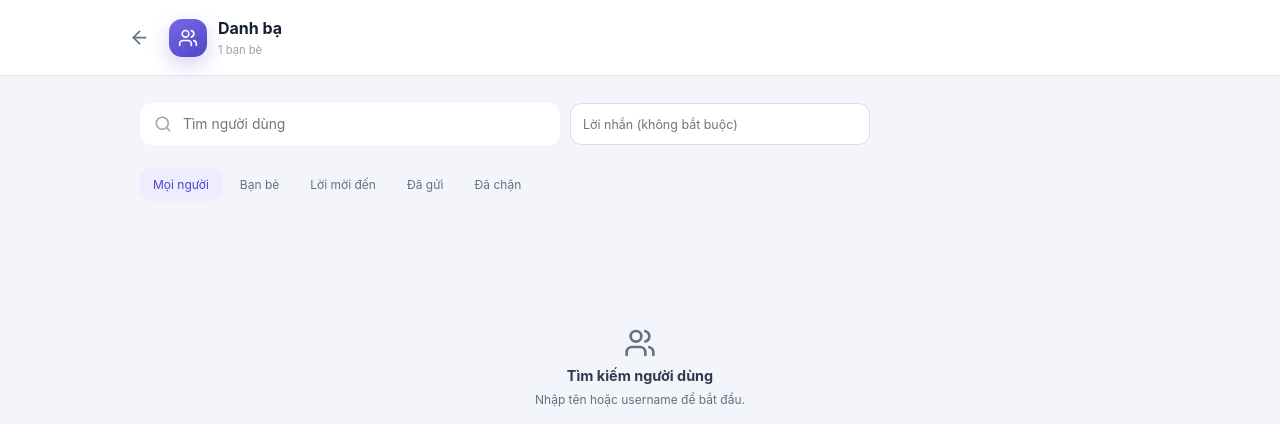
Test: ContactsPage › shows contextual copy for an empty contact category
Click the tab "Lời mời đến" at x=343, y=184, box [297,168,389,201]
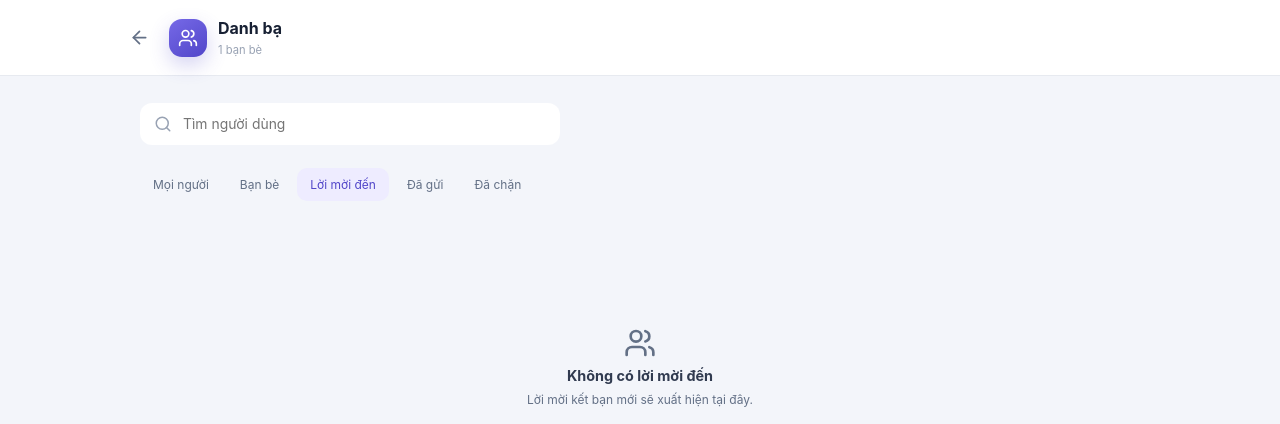
Expected: the text "Không có lời mời đến" is shown, [567,367,713,384]
Expected: the text "Lời mời kết bạn mới sẽ xuất hiện tại đây." is shown, [527,392,753,407]
